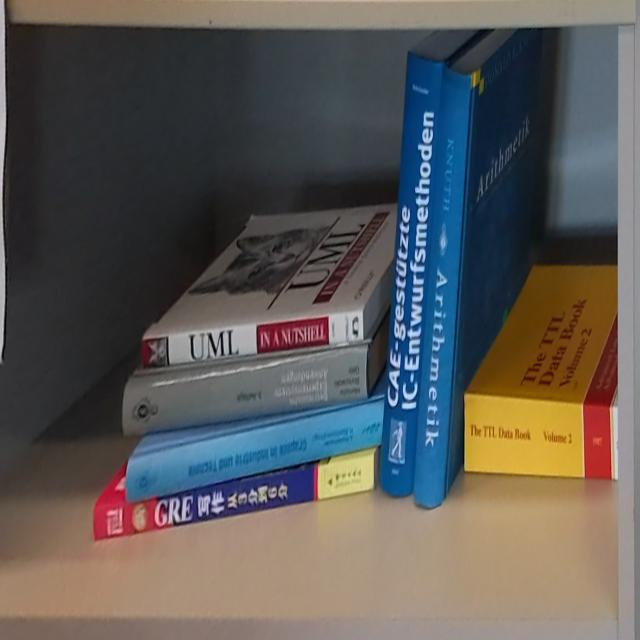Book Spine: (379, 54, 441, 498), (126, 399, 386, 502), (414, 64, 471, 507), (92, 457, 374, 541), (122, 349, 370, 439), (465, 394, 619, 481), (140, 313, 364, 369)
